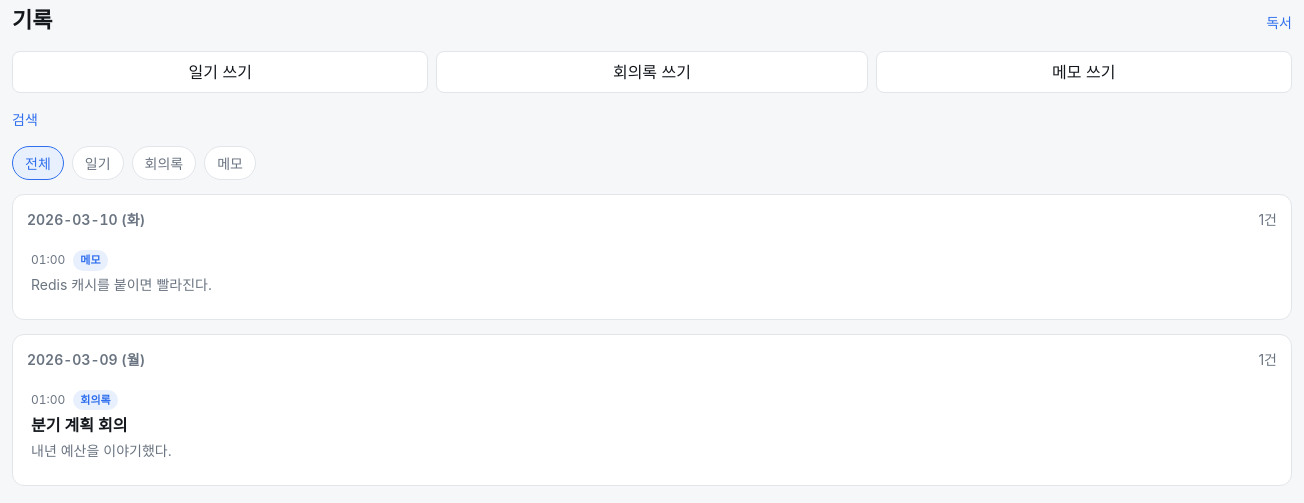
Scenario: 기록 검색 한 줄 › 할 일 제목으로 찾고 할 일임을 표시한다
Click the button "검색": coordinates (25, 120) [12, 107, 38, 132]
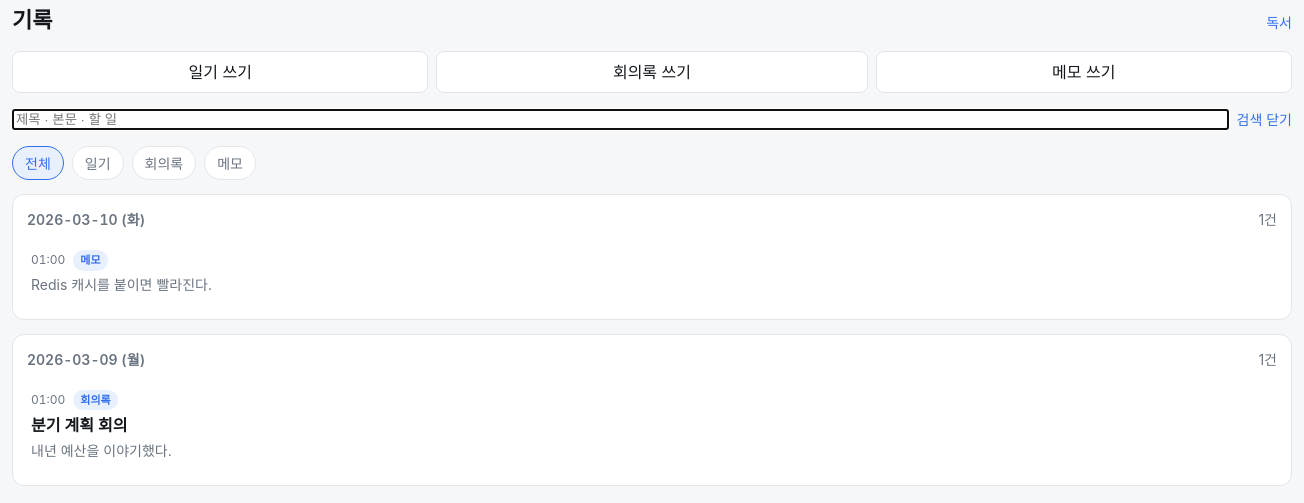
In the search field named "검색어": coordinates (620, 120) [12, 109, 1228, 130], type "우유"
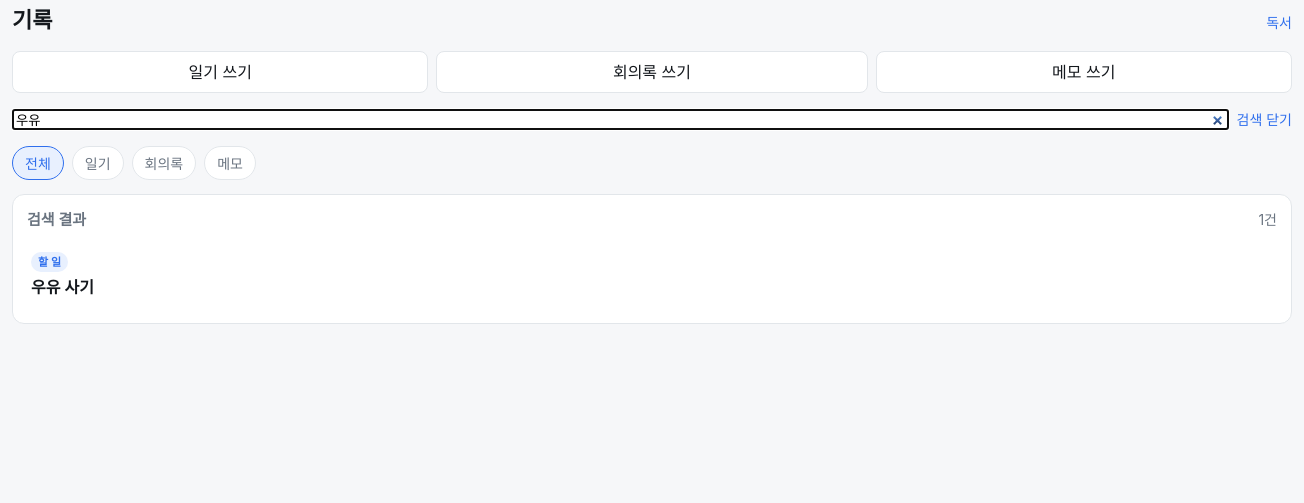
Expected: the text "우유 사기" is shown, [31, 275, 94, 299]
Expected: the text "할 일" is shown, [31, 252, 68, 272]
